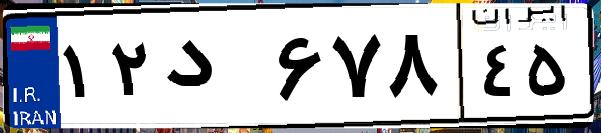1: (57, 26, 110, 100)
2: (110, 28, 158, 98)
4: (475, 38, 525, 113)
5: (525, 38, 570, 115)
6: (270, 28, 330, 110)
7: (330, 28, 385, 110)
8: (385, 28, 445, 110)
د: (158, 20, 270, 120)
